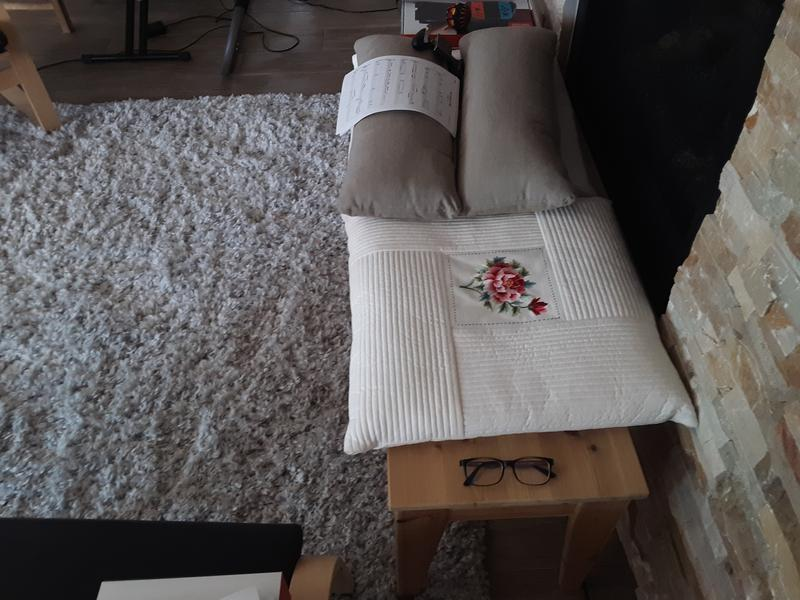glasses: (457, 453, 559, 490)
